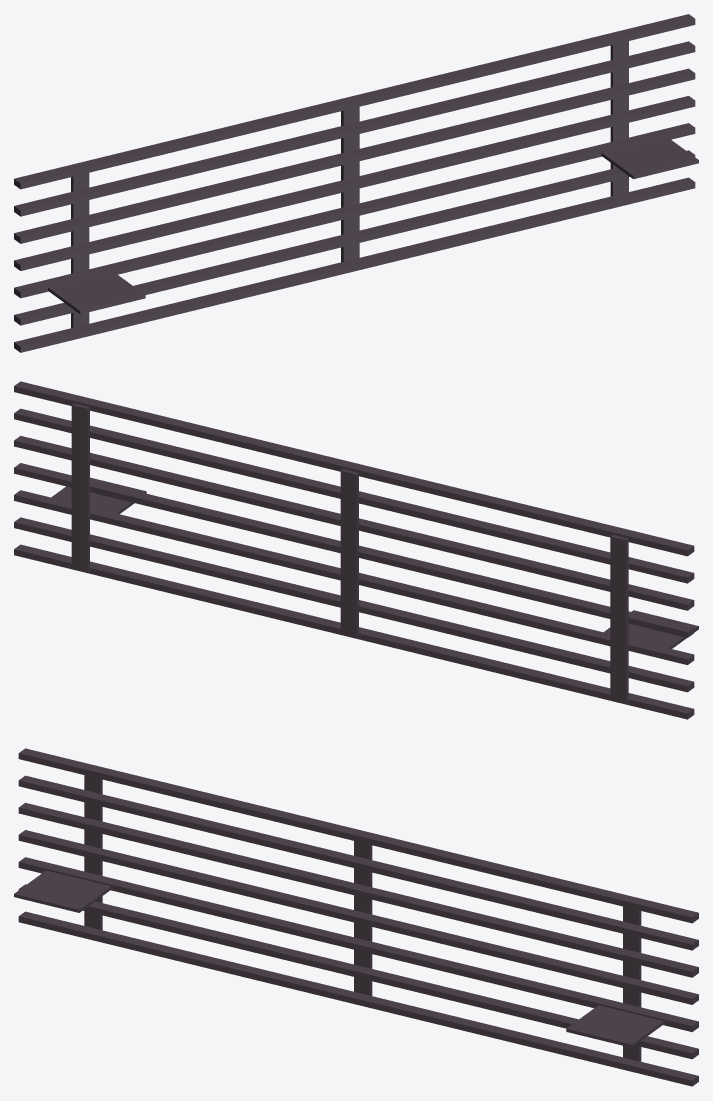
Rendered from Wall Headboard for Double Bed.fbx.
The picture shows the model from 3 angles, top to bottom: view 1: azimuth 30°, elevation 25°; view 2: azimuth 150°, elevation 25°; view 3: azimuth 330°, elevation 25°; orthographic projection.
Visible parts, largest first — view 1: Wall Headboard for Double bed; view 2: Wall Headboard for Double bed; view 3: Wall Headboard for Double bed.
Part boxes in pixels (x1,y1,x2,y2): Wall Headboard for Double bed: (14, 14, 698, 352); Wall Headboard for Double bed: (14, 381, 698, 719); Wall Headboard for Double bed: (14, 748, 698, 1086).
Bounding box in the file's own units: 730 × 175 × 76.86.
